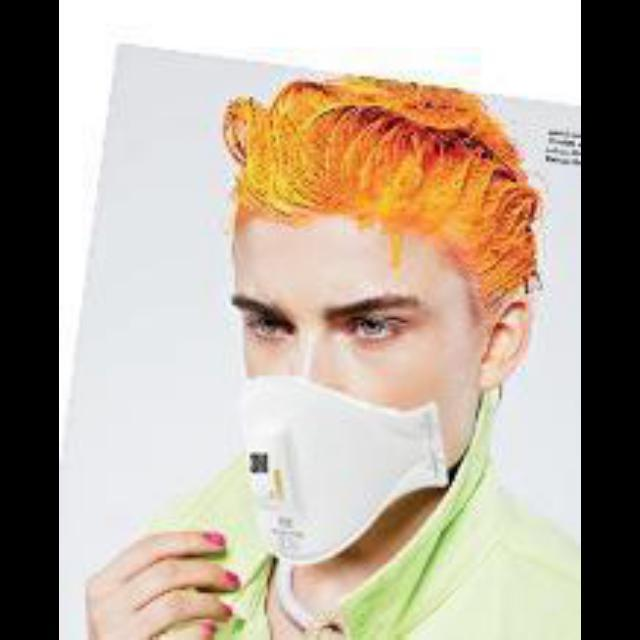suspicion: (204, 132, 542, 556)
